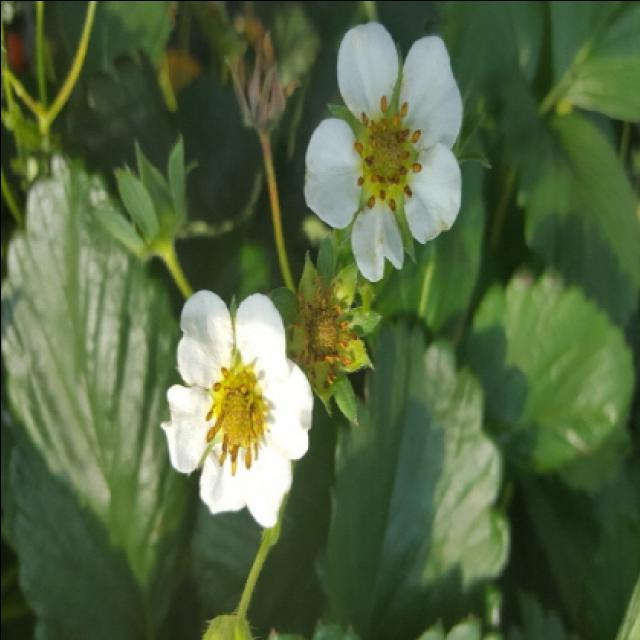Blossom Blight: (348, 90, 427, 215), (199, 350, 270, 479), (291, 289, 355, 388)
